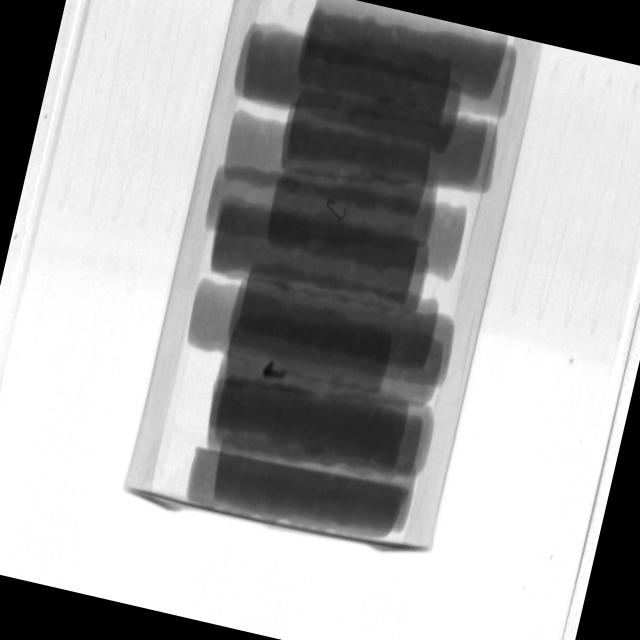ym: (262, 362, 289, 383), (326, 200, 349, 221)
